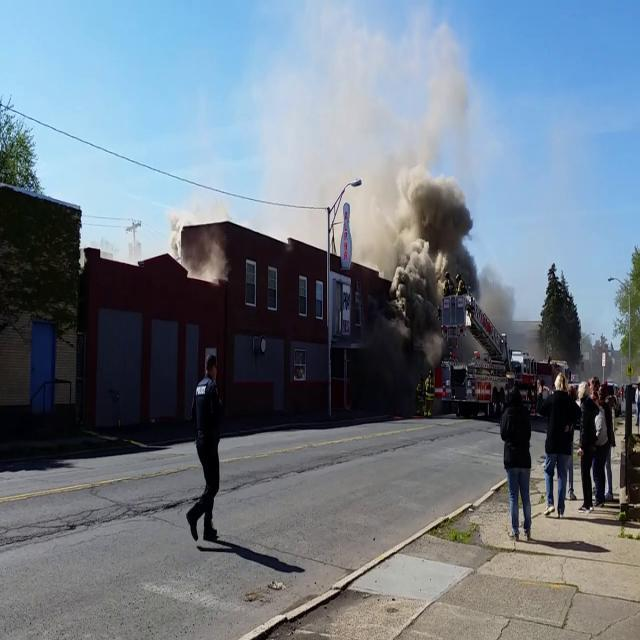Smoke: (364, 110, 492, 373)
